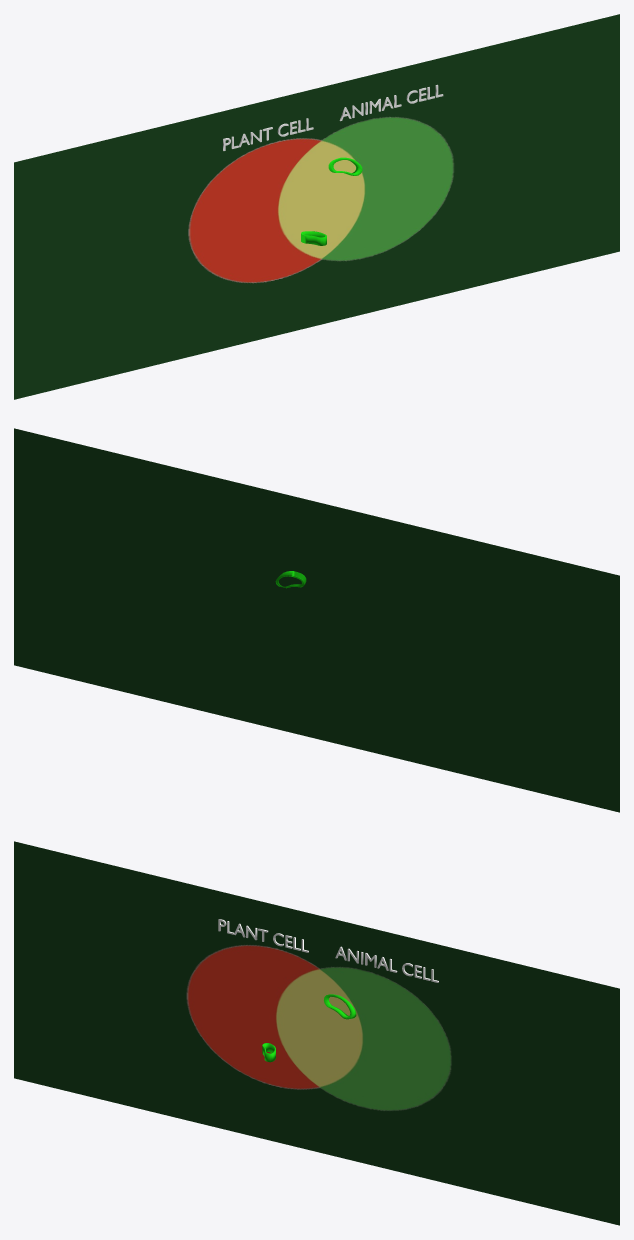
The model's file is chloroplast.gltf.
3 renders of one model, top to bottom at view 1: azimuth 30°, elevation 25°; view 2: azimuth 150°, elevation 25°; view 3: azimuth 330°, elevation 25°, orthographic.
Parts seen in each view (by area): view 1: Plane.039, Plane.013, Text.009, Text.008, Verde_Interno; view 2: Plane.013; view 3: Plane.039, Plane.013, Text.009, Text.008, Verde_Interno.
Boxes of the visible parts, x1,y1,x2,y2 form: Plane.039: (120, 41, 523, 370); Plane.013: (14, 14, 619, 399); Text.009: (339, 84, 443, 121); Text.008: (223, 118, 313, 150); Verde_Interno: (301, 157, 362, 245); Plane.013: (14, 428, 619, 812); Plane.039: (118, 869, 521, 1198); Plane.013: (14, 841, 619, 1225); Text.009: (335, 946, 438, 982); Text.008: (218, 919, 308, 952); Verde_Interno: (262, 994, 356, 1062).
Size of the model in its own units: 15.94 by 5.96 by 1.44.
Materials: 5 (1 with a texture image).
